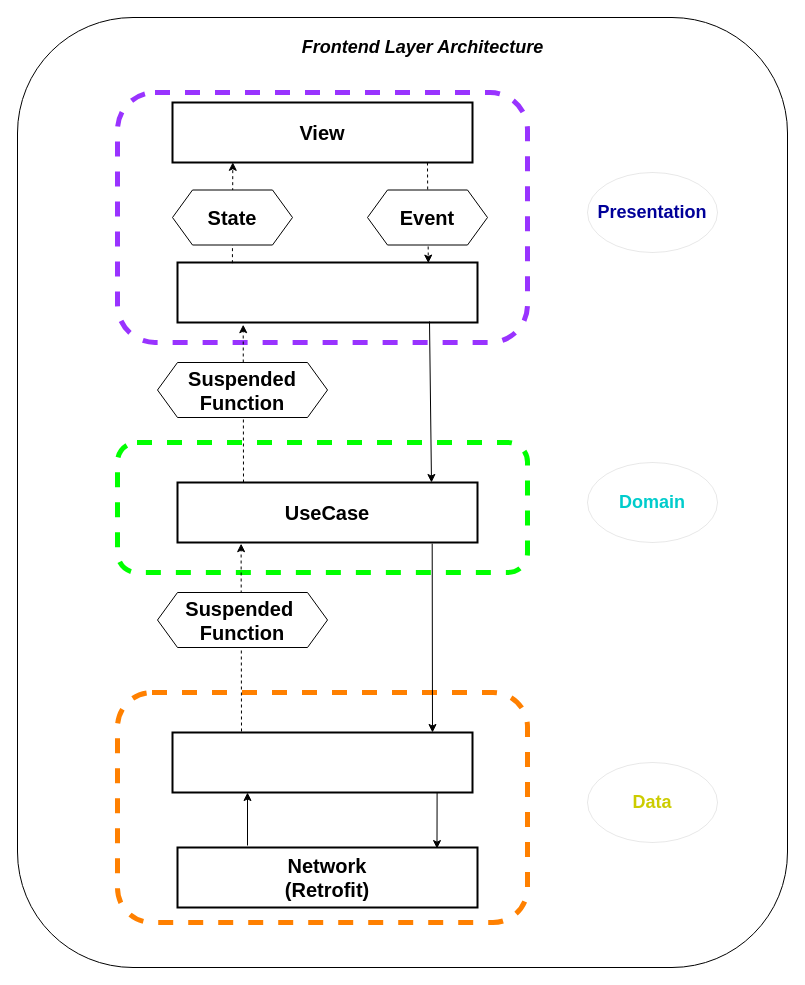
This 805x985 diagram has some shape labels left out. Each missing label, with the centre of its shape:
"Repository" belongs at (322,762).
"ViewModel" belongs at (327,292).
